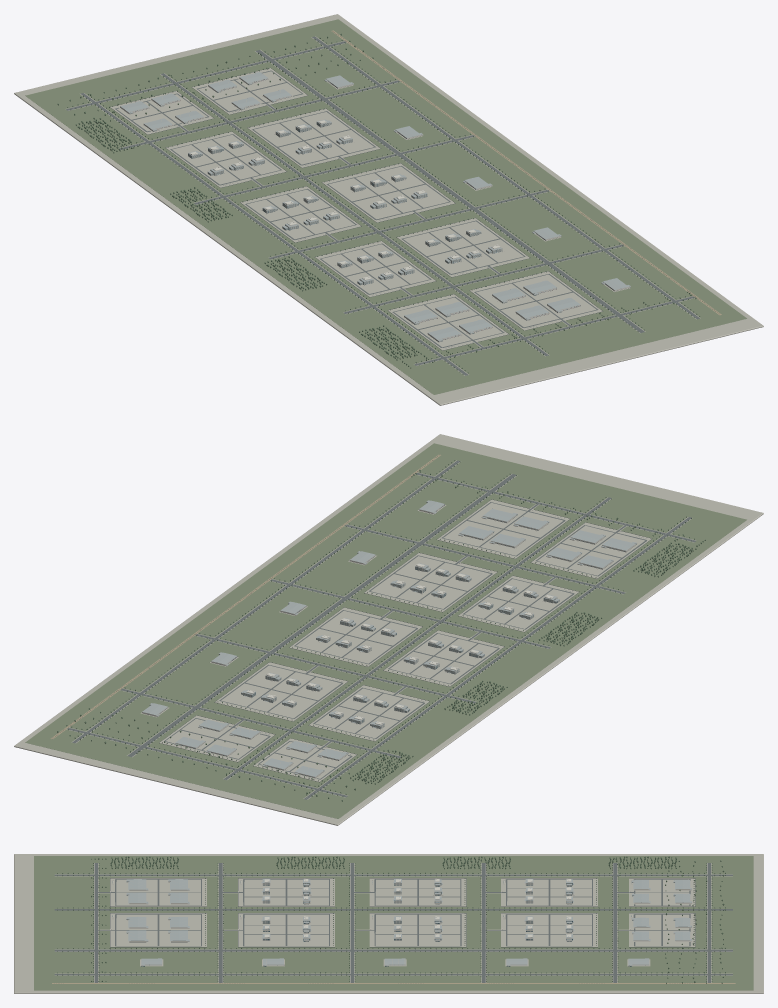
Rendered from EI-complete-v2.glb.
3 renders of one model, top to bottom at view 1: azimuth 30°, elevation 25°; view 2: azimuth 150°, elevation 25°; view 3: azimuth 270°, elevation 25°, orthographic. The views are drawn at different scales.
Visible parts, largest first — view 1: EI_TERRAIN, EI_BASE, EI_AVENUE_COURT_TREES, EI_C06_YARD, EI_C04_YARD, EI_C08_YARD, EI_C02_YARD, EI_C05_YARD, EI_C03_YARD, EI_C07_YARD, EI_C01_YARD, EI_PERIPHERAL_WOODS (+18 smaller); view 2: EI_TERRAIN, EI_BASE, EI_AVENUE_COURT_TREES, EI_C08_YARD, EI_C04_YARD, EI_C06_YARD, EI_C02_YARD, EI_C03_YARD, EI_C07_YARD, EI_C05_YARD, EI_C01_YARD, EI_PERIPHERAL_WOODS (+18 smaller); view 3: EI_TERRAIN, EI_BASE, EI_AVENUE_COURT_TREES, EI_C06_YARD, EI_C08_YARD, EI_C04_YARD, EI_C05_YARD, EI_C03_YARD, EI_C07_YARD, EI_C02_YARD, EI_COMPOUND_BOUNDARIES, EI_NS_2 (+34 smaller).
Boxes of the visible parts, x1,y1,x2,y2 form: EI_TERRAIN: (25,19,746,394); EI_BASE: (14,14,763,405); EI_AVENUE_COURT_TREES: (67,37,700,374); EI_C06_YARD: (322,163,455,222); EI_C04_YARD: (397,218,529,277); EI_C08_YARD: (247,108,380,167); EI_C02_YARD: (470,271,602,330); EI_C05_YARD: (240,186,360,242); EI_C03_YARD: (315,241,435,296); EI_C07_YARD: (166,131,286,187); EI_C01_YARD: (388,294,508,350); EI_PERIPHERAL_WOODS: (76,118,421,360); EI_TERRAIN: (25,443,746,818); EI_BASE: (14,434,763,825); EI_AVENUE_COURT_TREES: (68,460,694,796); EI_C08_YARD: (215,662,347,721); EI_C04_YARD: (364,553,496,611); EI_C06_YARD: (289,607,422,666); EI_C02_YARD: (437,499,569,558); EI_C03_YARD: (458,576,578,631); EI_C07_YARD: (309,685,429,741); EI_C05_YARD: (383,630,503,686); EI_C01_YARD: (531,522,651,578); EI_PERIPHERAL_WOODS: (350,542,696,784); EI_TERRAIN: (34,856,753,990); EI_BASE: (14,854,763,993); EI_AVENUE_COURT_TREES: (57,863,725,981); EI_C06_YARD: (369,913,466,946); EI_C08_YARD: (501,913,597,946); EI_C04_YARD: (238,913,334,946); EI_C05_YARD: (369,878,466,906); EI_C03_YARD: (238,878,334,906); EI_C07_YARD: (501,878,597,906); EI_C02_YARD: (110,913,206,946); EI_COMPOUND_BOUNDARIES: (110,878,695,947); EI_NS_2: (54,949,732,951).
Bounding box in the file's own units: 2380 × 41.08 × 5420.
